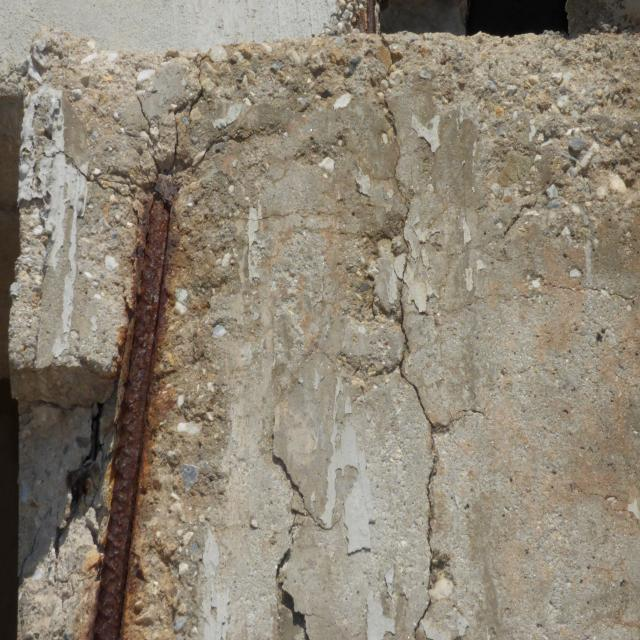corrosion: (88, 168, 199, 640), (352, 0, 378, 40)
